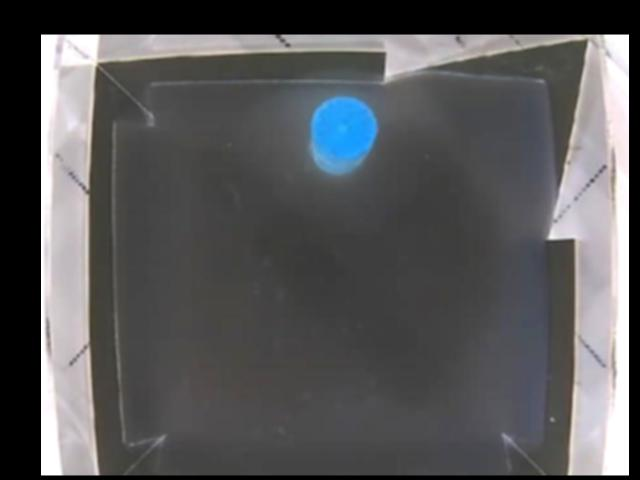Carrot: (311, 97, 376, 176)
